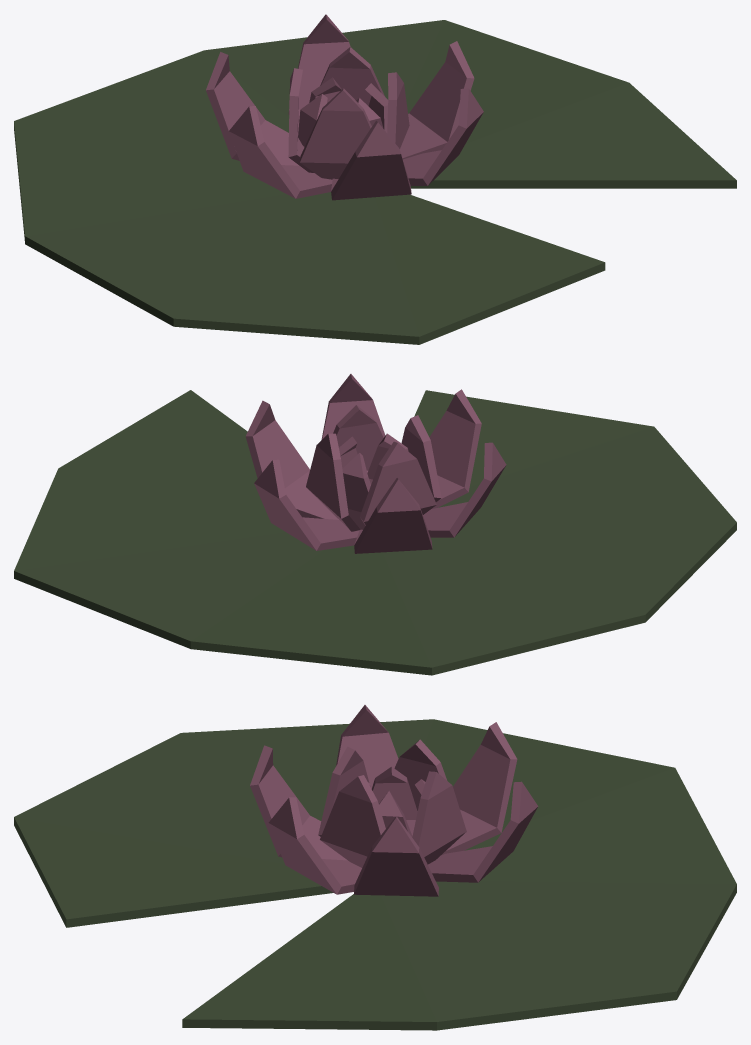
The model's file is fn_lilypad.glb.
3 views of the same model, one above another, from view 1: azimuth 30°, elevation 25°; view 2: azimuth 150°, elevation 25°; view 3: azimuth 270°, elevation 25° (orthographic). The views are drawn at different scales.
Parts seen in each view (by area): view 1: Lilypad; view 2: Lilypad; view 3: Lilypad.
Boxes of the visible parts, box(x1,y1,x2,y2) form: Lilypad: box(14, 14, 736, 344); Lilypad: box(14, 374, 736, 675); Lilypad: box(14, 705, 736, 1030).
Size of the model in its own units: 1.2 by 0.2209 by 1.19.
